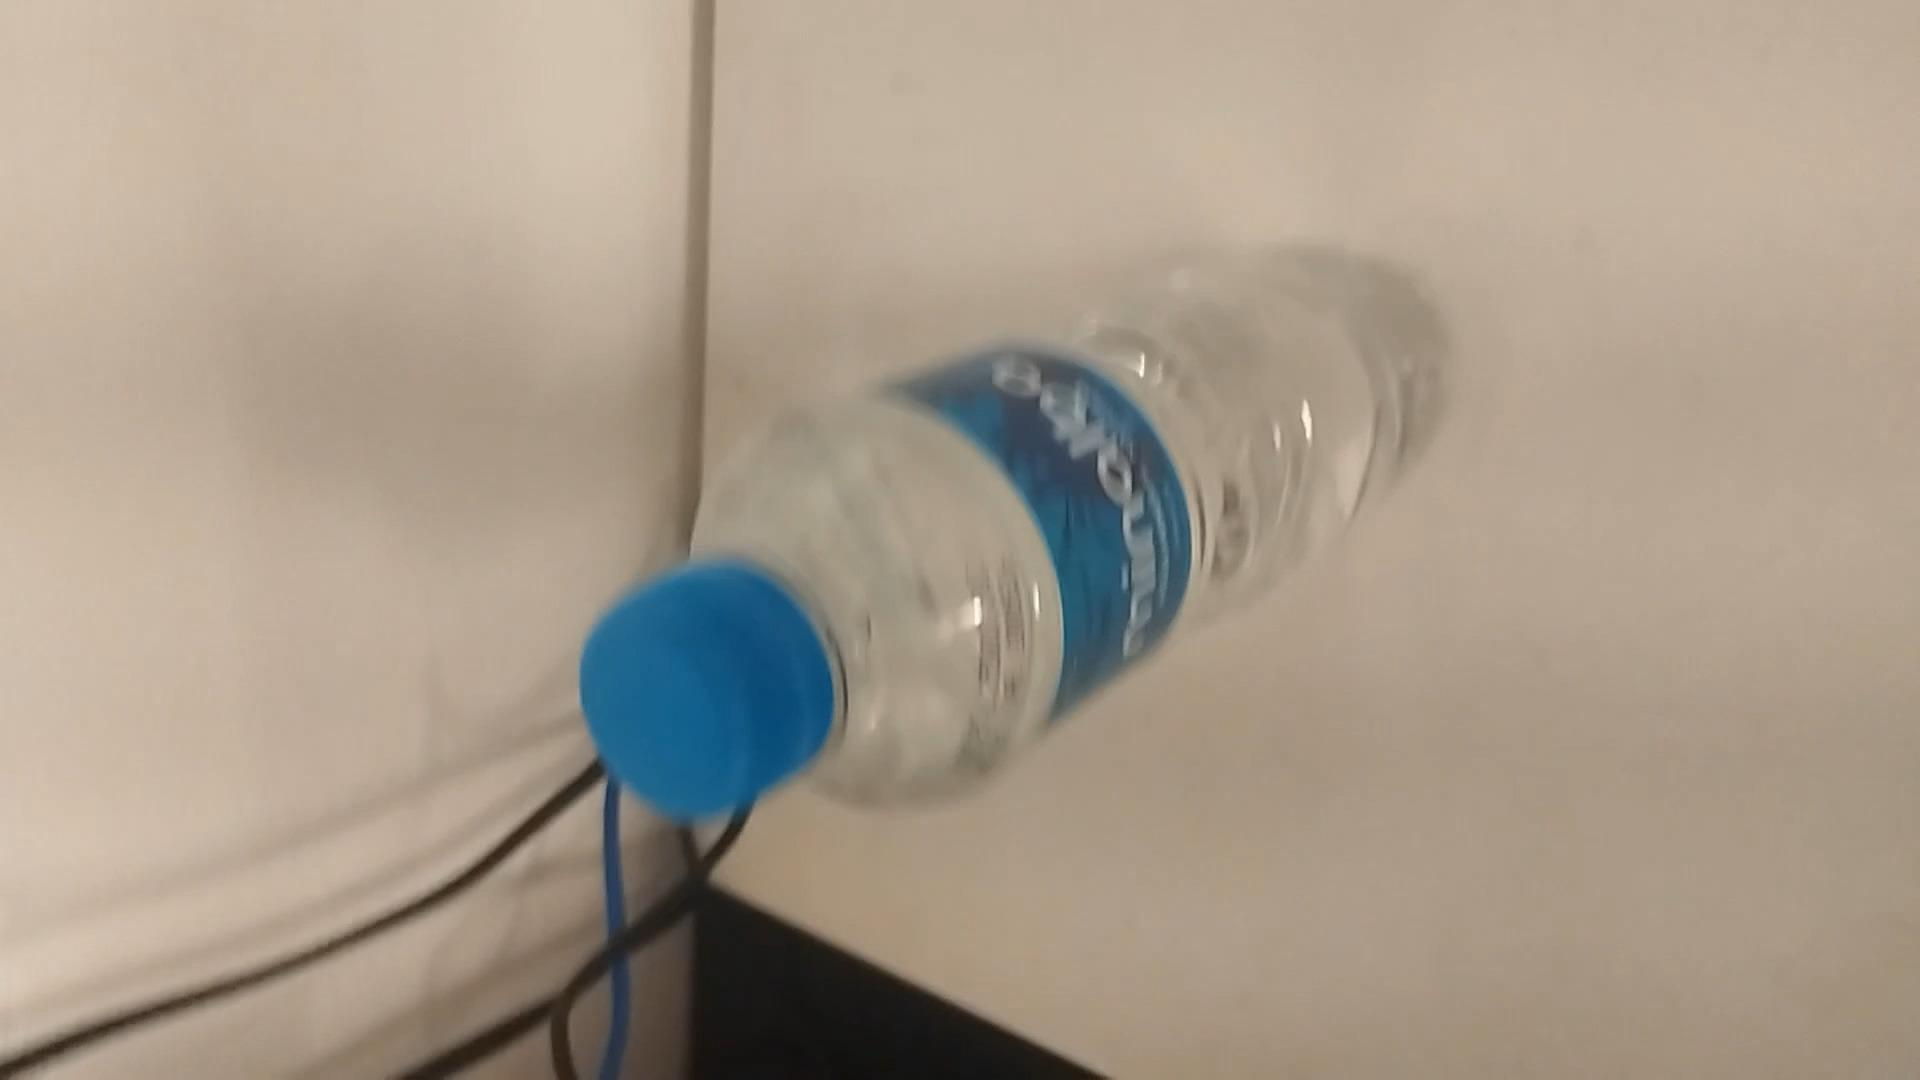agua: (596, 251, 1435, 818)
